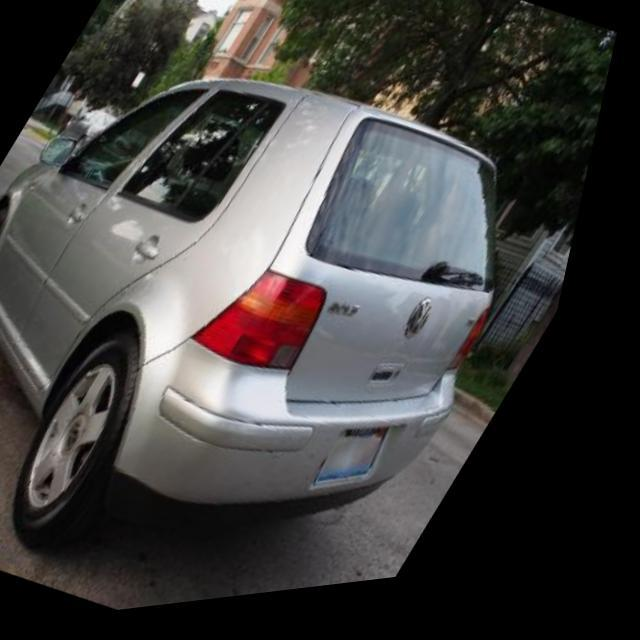license_plate: (329, 423, 418, 514)
